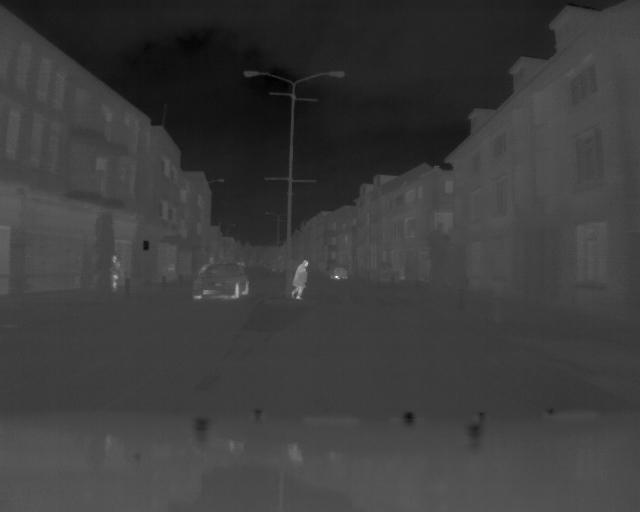car: (188, 262, 253, 303)
person: (290, 257, 315, 304)
